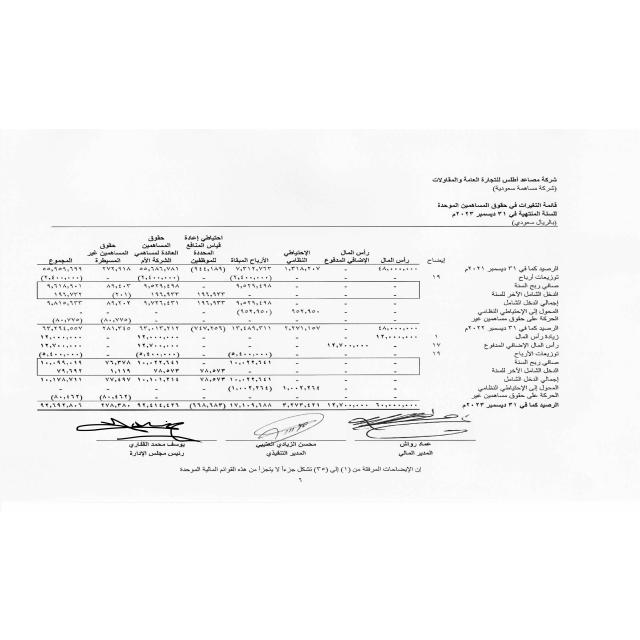financial_sheets: (432, 201, 561, 209)
table: (14, 232, 453, 415)
